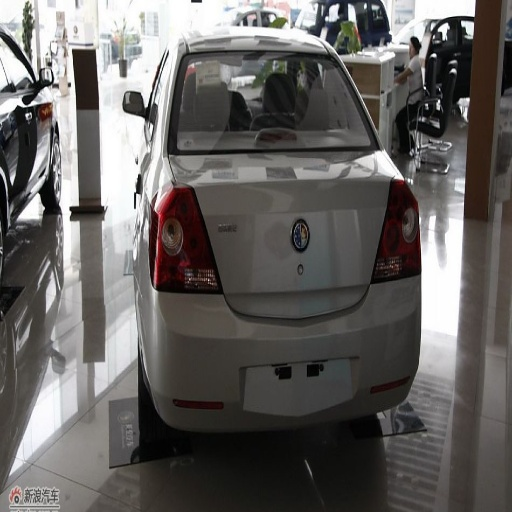back_bumper: (143, 275, 419, 432)
back_left_light: (143, 181, 220, 292)
back_right_door: (1, 106, 22, 173)
tailgate: (196, 142, 390, 319)
trunk: (179, 136, 355, 240)
